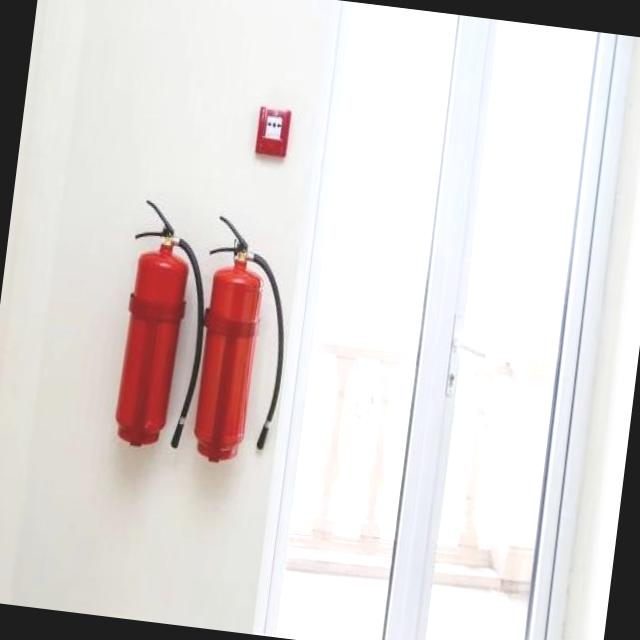FireExtinguisher: (179, 208, 302, 470), (106, 190, 220, 457)
